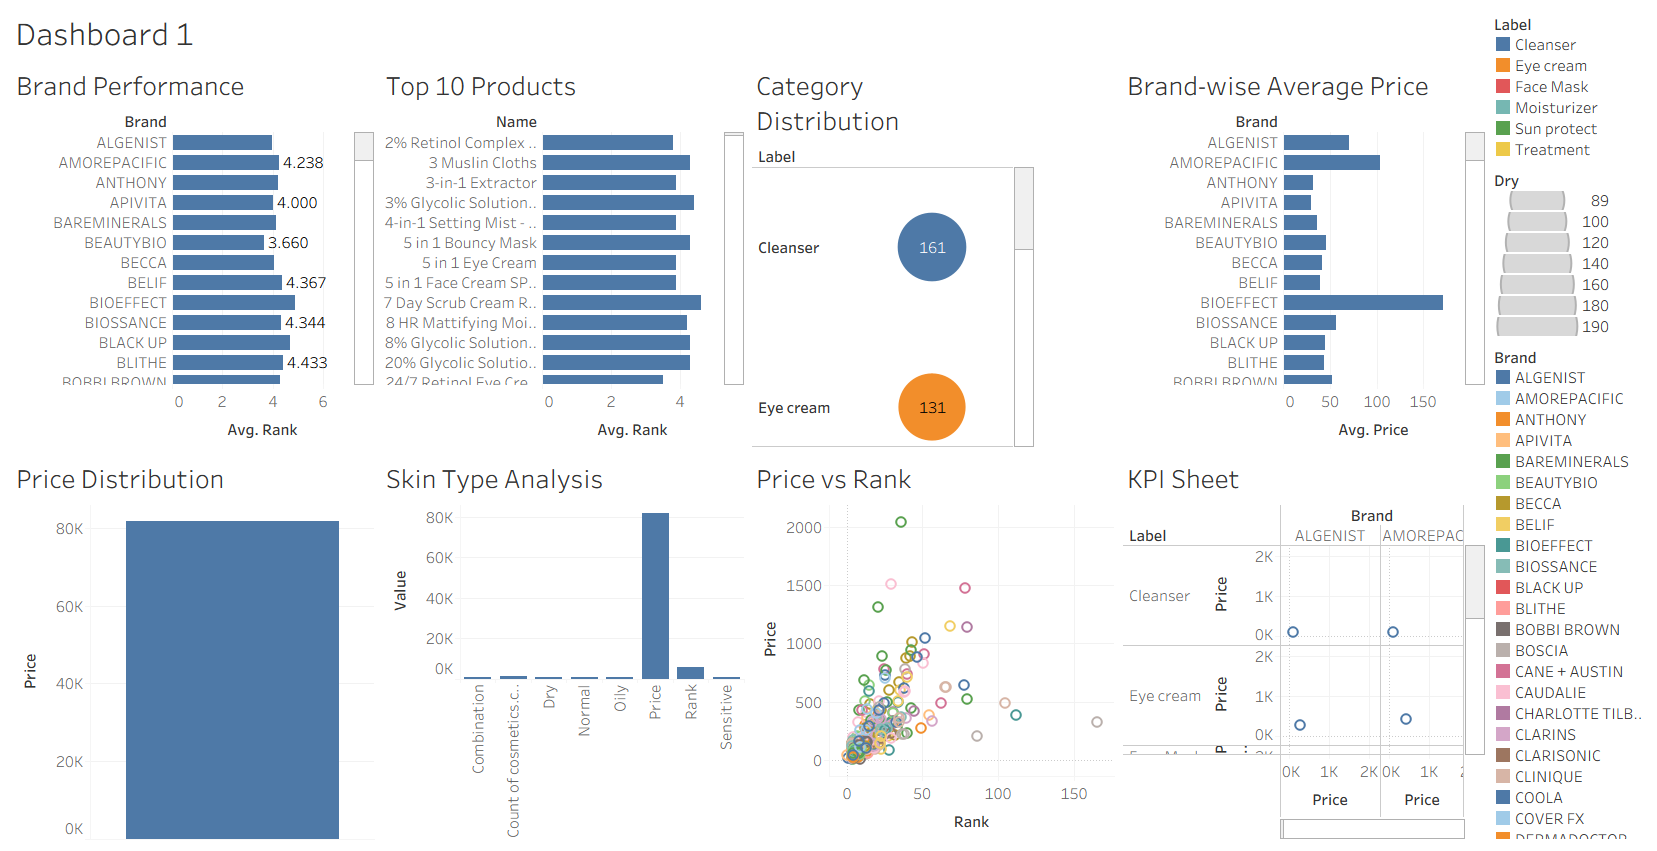

What the dashboard file says about the page in this screenshot:
{"tool":"tableau","page":{"name":"Dashboard 1","canvas":[1000,1000],"units":"permille","ordinal":0},"visuals":[{"type":"title","box":[4.8,9.4,893.8,58.8]},{"type":"legend","title":"Category Distribution","param":"[federated.0r26be909v8g6c11lwu5e0k0zw53].[none:Label:nk]","box":[898.6,9.4,96.6,183.3]},{"type":"worksheet","title":"Brand Performance","mark":"Automatic","rows":["Brand"],"cols":["Rank"],"box":[4.8,68.2,223.5,461.2]},{"type":"worksheet","title":"Top 10 Products","mark":"Automatic","rows":["Name"],"cols":["Rank"],"box":[228.3,68.2,223.4,461.2]},{"type":"worksheet","title":"Category Distribution","mark":"Pie","rows":["Label"],"box":[451.7,68.2,223.5,461.2]},{"type":"worksheet","title":"Brand-wise Average Price","mark":"Automatic","rows":["Brand"],"cols":["Price"],"box":[675.2,68.2,223.4,461.2]},{"type":"legend","title":"Category Distribution","param":"[federated.0r26be909v8g6c11lwu5e0k0zw53].[sum:Dry:qk]","box":[898.6,192.7,96.6,208]},{"type":"legend","title":"Price vs Rank","param":"[federated.0r26be909v8g6c11lwu5e0k0zw53].[none:Brand:nk]","box":[898.6,400.7,96.6,589.9]},{"type":"worksheet","title":"Price Distribution","mark":"Automatic","rows":["Price"],"box":[4.8,529.4,223.5,461.2]},{"type":"worksheet","title":"Skin Type Analysis","mark":"Automatic","box":[228.3,529.4,223.4,461.2]},{"type":"worksheet","title":"Price vs Rank","mark":"Automatic","rows":["Price"],"cols":["Rank"],"box":[451.7,529.4,223.5,461.2]},{"type":"worksheet","title":"KPI Sheet","mark":"Automatic","rows":["Label","Price"],"cols":["Brand","Price"],"box":[675.2,529.4,223.4,461.2]}]}

Visuals, with their boxes on the dashboard's canvas, which has no fixed pixel size, in thousandths of its width and height (x1, y1, x2, y2). These are canvas units, not pixel positions in the 1657x851 screenshot, which may show the page scaled, cropped or inside an application window:
title: region(5, 9, 899, 68)
"Category Distribution" legend: region(899, 9, 995, 193)
"Brand Performance" worksheet: region(5, 68, 228, 529)
"Top 10 Products" worksheet: region(228, 68, 452, 529)
"Category Distribution" worksheet (Pie marks): region(452, 68, 675, 529)
"Brand-wise Average Price" worksheet: region(675, 68, 899, 529)
"Category Distribution" legend: region(899, 193, 995, 401)
"Price vs Rank" legend: region(899, 401, 995, 991)
"Price Distribution" worksheet: region(5, 529, 228, 991)
"Skin Type Analysis" worksheet: region(228, 529, 452, 991)
"Price vs Rank" worksheet: region(452, 529, 675, 991)
"KPI Sheet" worksheet: region(675, 529, 899, 991)
